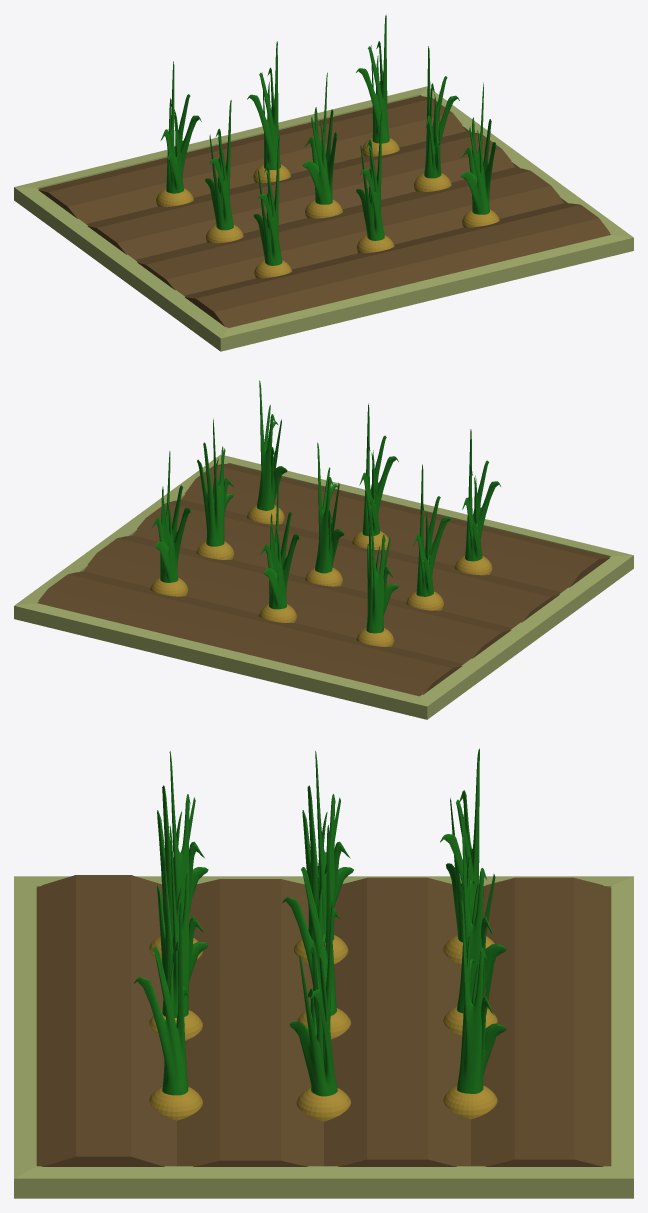
File: лук в грядке2.fbx
3 renders of one model, top to bottom at view 1: azimuth 30°, elevation 25°; view 2: azimuth 150°, elevation 25°; view 3: azimuth 270°, elevation 25°, orthographic. The views are drawn at different scales.
Visible parts, largest first — view 1: Cube, Cube.001, Sphere, Sphere.005, Sphere.013, Sphere.012, Sphere.009, Sphere.008, Sphere.004, Sphere.017, Sphere.016, Sphere.002 (+6 smaller); view 2: Cube, Cube.001, Sphere.004, Sphere.013, Sphere.017, Sphere.016, Sphere.005, Sphere, Sphere.012, Sphere.009, Sphere.008, Sphere.010 (+7 smaller); view 3: Cube, Cube.001, Sphere.004, Sphere.017, Sphere.005, Sphere.008, Sphere.012, Sphere.009, Sphere.016, Sphere, Sphere.013, Sphere.003 (+2 smaller).
Boxes of the visible parts, x1,y1,x2,y2 form: Cube: (38,96,610,328); Cube.001: (14,86,633,351); Sphere: (302,72,337,204); Sphere.005: (461,82,496,214); Sphere.013: (160,61,201,193); Sphere.012: (205,100,233,230); Sphere.009: (253,135,282,265); Sphere.008: (356,110,384,240); Sphere.004: (424,46,459,178); Sphere.017: (356,14,389,143); Sphere.016: (247,41,280,169); Sphere.002: (305,199,342,218); Cube: (38,464,609,696); Cube.001: (14,454,633,719); Sphere.004: (197,418,234,546); Sphere.013: (366,505,398,633); Sphere.017: (151,451,191,582); Sphere.016: (260,477,300,609); Sphere.005: (257,380,287,510); Sphere: (315,442,344,573); Sphere.012: (413,464,452,596); Sphere.009: (462,429,500,561); Sphere.008: (359,403,398,536); Sphere.010: (454,556,492,575); Cube: (36,875,611,1166); Cube.001: (14,876,633,1198); Sphere.004: (289,899,337,1096); Sphere.017: (457,900,506,1093); Sphere.005: (134,903,189,1095); Sphere.008: (157,825,208,1017); Sphere.012: (302,751,353,942); Sphere.009: (157,751,208,941); Sphere.016: (457,820,506,1013); Sphere: (282,825,340,1015); Sphere.013: (440,748,479,942); Sphere.003: (296,1088,350,1121).
Size of the model in its own units: 650 by 232 by 563.
